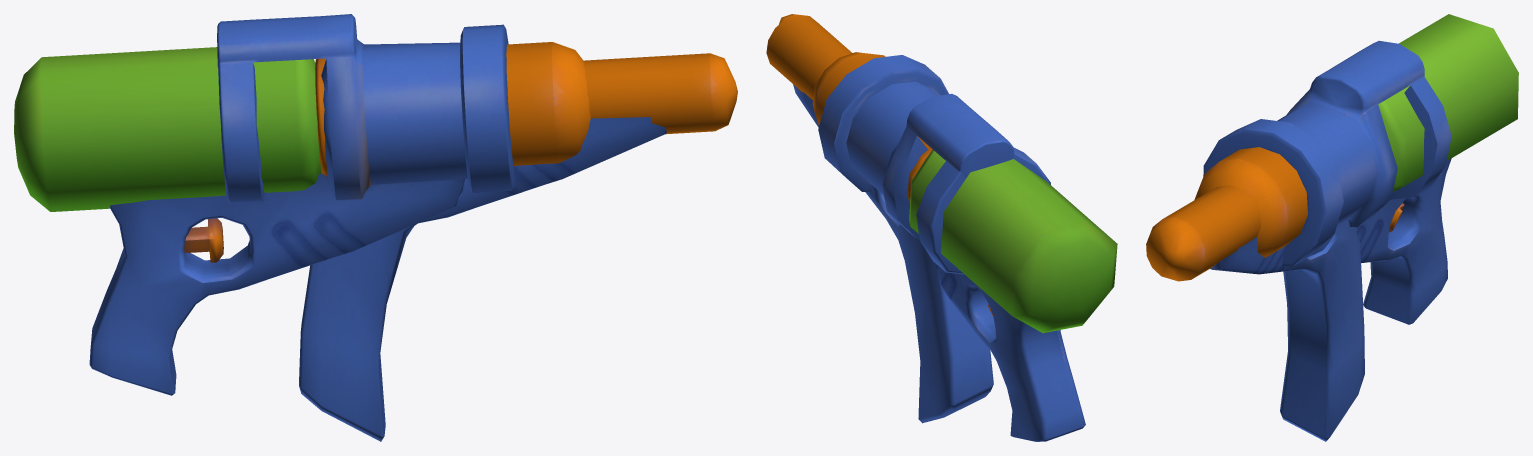
Rendered from watergun.fbx.
The picture shows the model from 3 angles, left to right: view 1: azimuth 30°, elevation 25°; view 2: azimuth 150°, elevation 25°; view 3: azimuth 270°, elevation 25°; orthographic projection. The views are drawn at different scales.
Visible parts, largest first — view 1: watergun; view 2: watergun; view 3: watergun.
Part boxes in pixels (left/top/right/bottom): watergun: left=14, top=14, right=737, bottom=441; watergun: left=766, top=14, right=1117, bottom=441; watergun: left=1146, top=14, right=1518, bottom=441.
Size of the model in its own units: 120 by 84.25 by 80.21.
